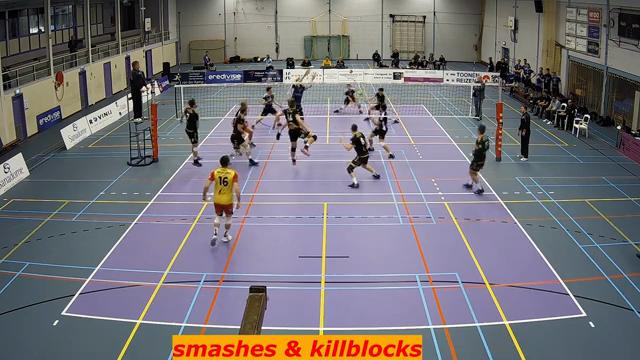Block: (289, 63, 319, 123)
Player: (203, 155, 240, 245), (343, 124, 379, 188), (283, 99, 316, 164), (463, 124, 489, 194), (230, 102, 258, 165), (180, 99, 201, 166), (368, 104, 394, 158), (252, 86, 281, 128), (234, 102, 255, 147), (334, 84, 362, 113), (364, 88, 385, 120)
